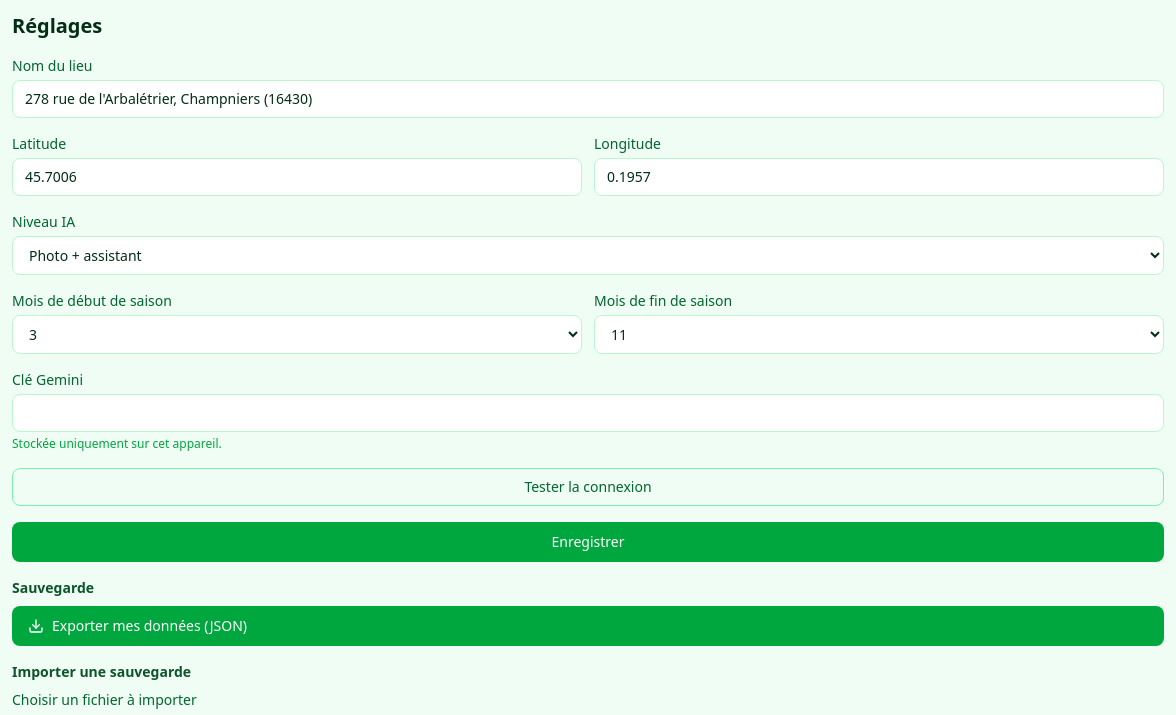
Scenario: SettingsPage › teste la connexion et affiche le succès
Expected: the field labelled "Nom du lieu" is shown, [12, 80, 1164, 118]
Type "AIza-test" into the password field labelled "Clé Gemini". click: (588, 413)
box: [12, 394, 1164, 432]
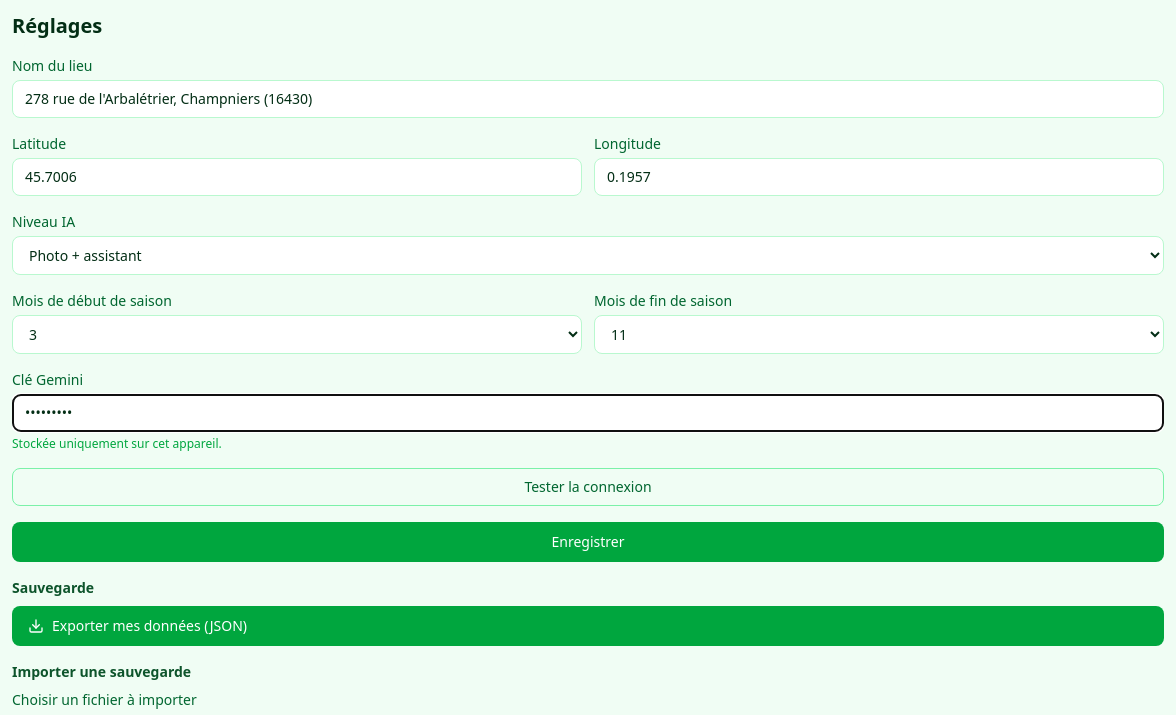
Click the button "Tester la connexion". click: (588, 487)
box: [12, 468, 1164, 506]
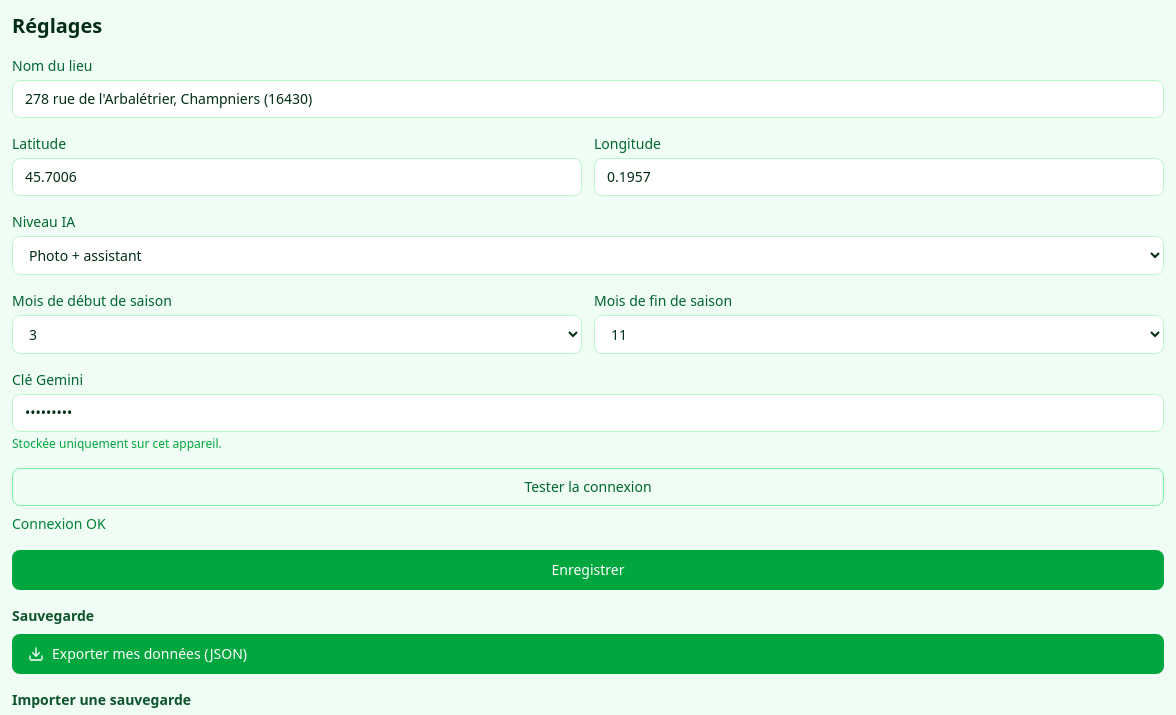
Now the text "Connexion OK" is shown, box [12, 514, 106, 533]
